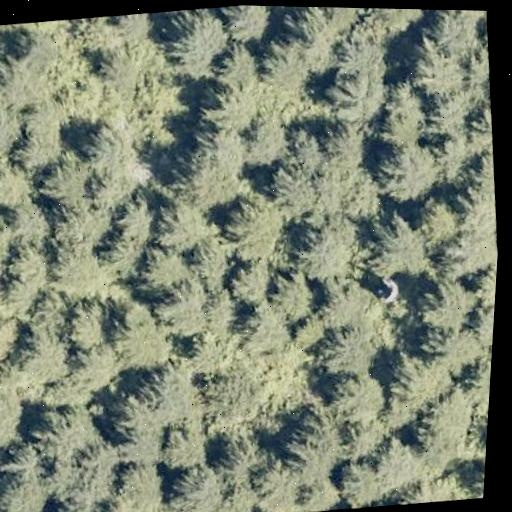tree-top: (98, 356, 205, 443), (79, 128, 162, 235), (233, 223, 318, 324), (70, 112, 156, 201), (172, 120, 257, 209), (286, 203, 374, 287), (112, 187, 198, 270), (302, 149, 391, 227), (196, 354, 279, 437), (0, 20, 78, 108), (23, 392, 111, 468), (319, 19, 397, 103), (216, 187, 297, 267), (316, 57, 399, 132), (104, 297, 181, 375), (42, 230, 121, 305), (362, 208, 439, 283), (381, 344, 461, 415), (372, 135, 449, 208), (207, 423, 281, 498), (320, 361, 397, 433), (51, 436, 127, 508), (407, 269, 481, 340), (412, 385, 485, 456), (249, 33, 320, 106), (162, 5, 237, 74), (7, 100, 78, 172), (147, 189, 222, 257), (402, 38, 475, 106), (267, 406, 334, 478), (308, 270, 378, 338), (368, 77, 435, 148), (11, 318, 82, 384), (159, 452, 236, 512), (0, 233, 66, 303), (327, 448, 400, 511), (229, 295, 297, 362), (315, 316, 388, 378), (232, 107, 298, 173), (3, 111, 69, 176), (103, 187, 166, 253), (91, 36, 155, 100), (33, 149, 99, 211), (132, 237, 197, 299), (445, 149, 500, 221), (106, 453, 173, 512), (422, 318, 489, 377), (57, 294, 119, 357), (406, 186, 468, 249), (439, 216, 500, 276), (68, 12, 151, 56), (264, 158, 324, 218), (207, 39, 268, 98), (219, 254, 285, 308), (0, 192, 58, 253), (65, 334, 127, 391), (263, 266, 322, 323), (0, 451, 55, 512), (401, 459, 470, 506), (154, 421, 214, 474), (0, 151, 45, 216), (215, 5, 277, 48), (360, 8, 438, 37), (0, 378, 30, 449), (474, 261, 497, 320), (464, 457, 486, 498), (0, 61, 10, 120), (428, 10, 487, 18)
